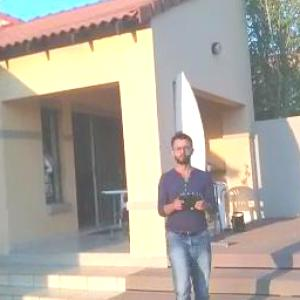follow: (152, 128, 223, 299)
